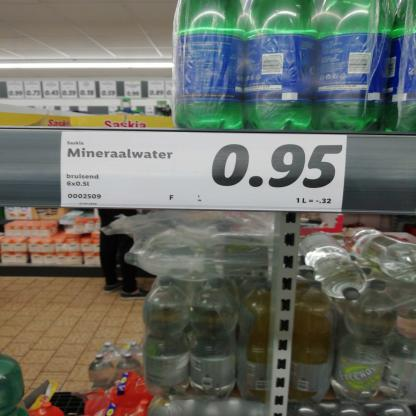prtg: (62, 133, 349, 214)
